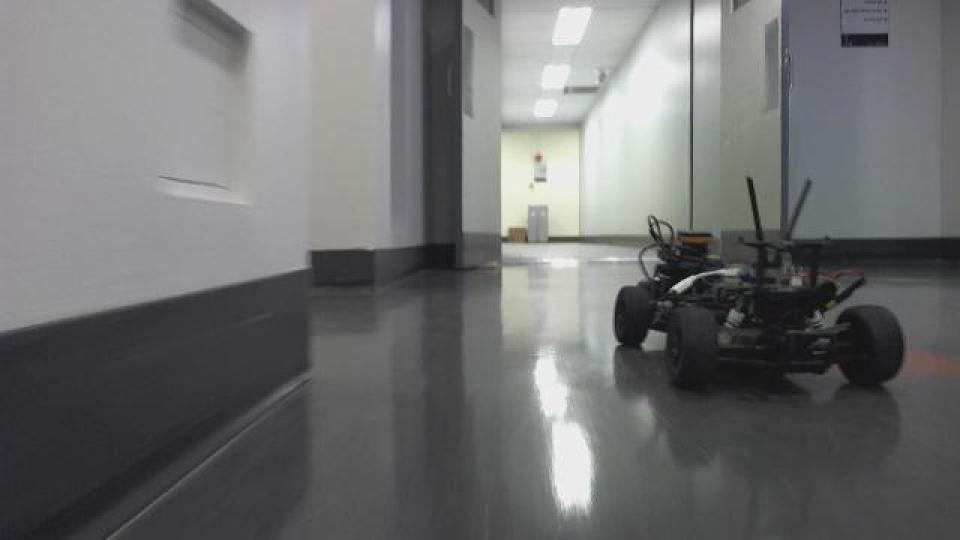car: (609, 174, 907, 393)
